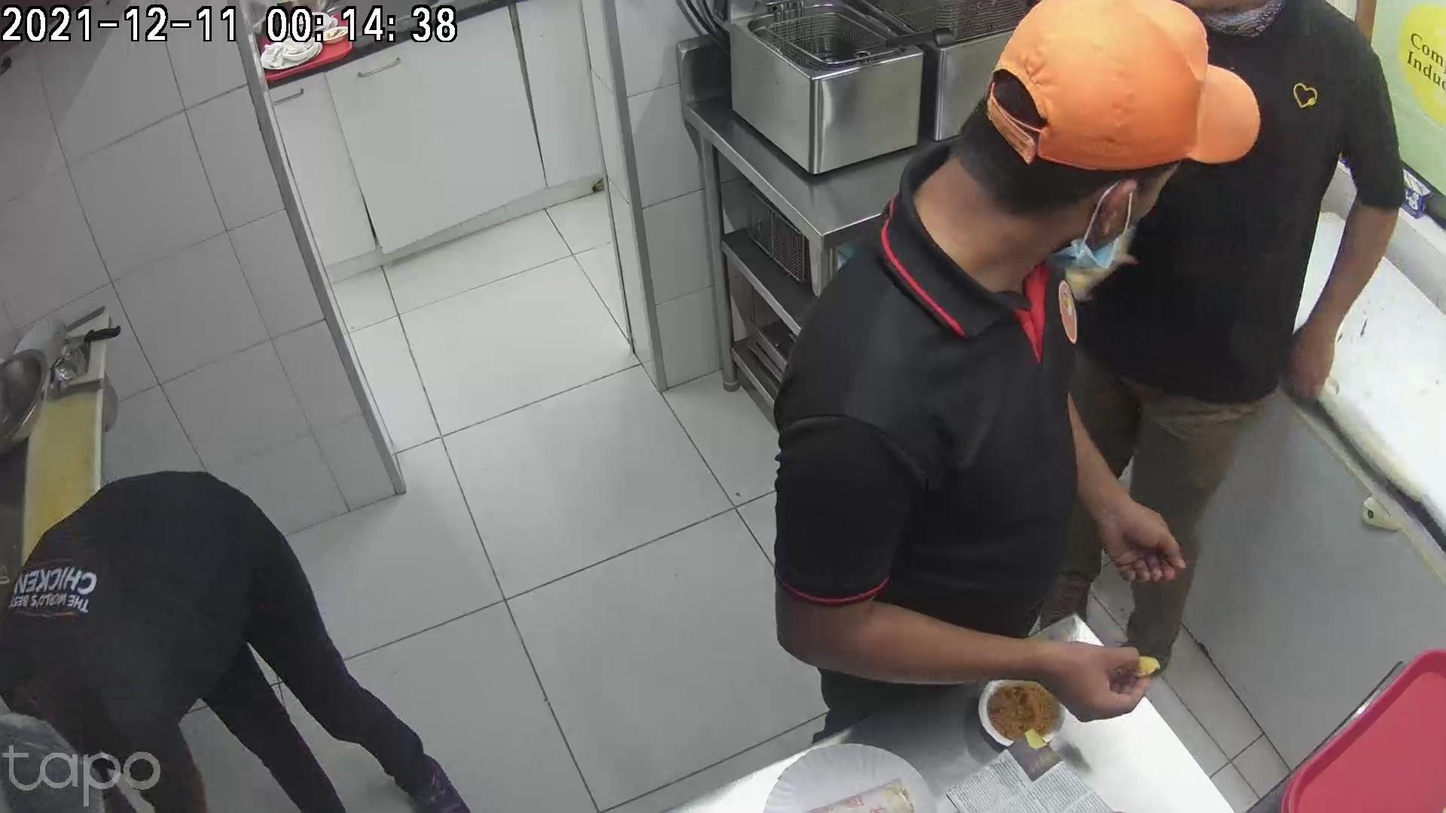gloves: (858, 622, 986, 747)
no_gloves: (1036, 590, 1112, 711)
